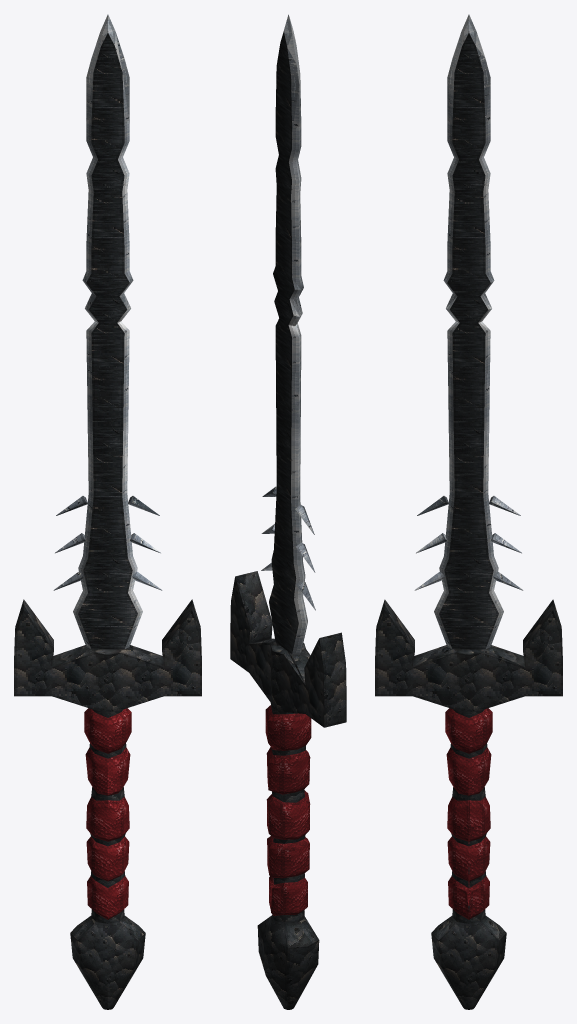
Rendered from bloodletter.glb.
3 views of the same model, side by side, from view 1: azimuth 90°, elevation 25°; view 2: azimuth 210°, elevation 25°; view 3: azimuth 270°, elevation 25° (orthographic).
Visible parts, largest first — view 1: bloodletter; view 2: bloodletter; view 3: bloodletter.
Part boxes in pixels (x1,y1,x2,y2): bloodletter: [14, 14, 201, 1009]; bloodletter: [230, 14, 346, 1009]; bloodletter: [375, 14, 562, 1009].
Size of the model in its own units: 0.0632 by 1.33 by 0.2279.
1 material, 1 textured.
